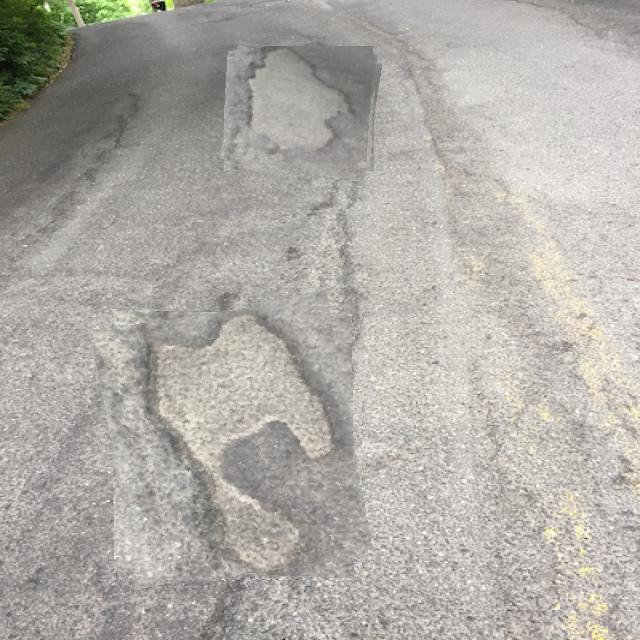Pothole: (102, 300, 362, 580), (224, 46, 378, 177)
